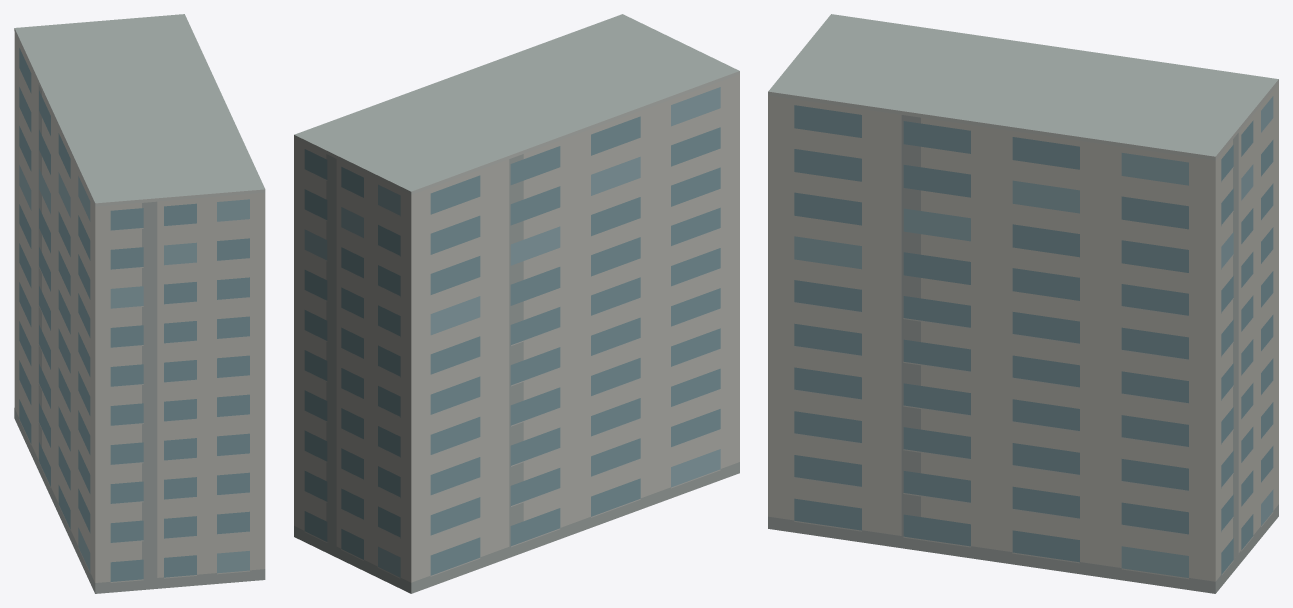
Rendered from residential-d074bf57-ab84-4938-bfbf-7f09c8d1157f.glb.
3 views of the same model, side by side, from view 1: azimuth 30°, elevation 25°; view 2: azimuth 150°, elevation 25°; view 3: azimuth 270°, elevation 25° (orthographic). The views are drawn at different scales.
Parts seen in each view (by area): view 1: residential-d074bf57-ab84-4938-bfbf-7f09c8d1157f.tmp; view 2: residential-d074bf57-ab84-4938-bfbf-7f09c8d1157f.tmp; view 3: residential-d074bf57-ab84-4938-bfbf-7f09c8d1157f.tmp.
Part boxes in pixels (x1,y1,x2,y2): residential-d074bf57-ab84-4938-bfbf-7f09c8d1157f.tmp: (14, 14, 265, 593); residential-d074bf57-ab84-4938-bfbf-7f09c8d1157f.tmp: (294, 14, 739, 593); residential-d074bf57-ab84-4938-bfbf-7f09c8d1157f.tmp: (768, 14, 1278, 593).
Size of the model in its own units: 19.61 by 28 by 29.66.
